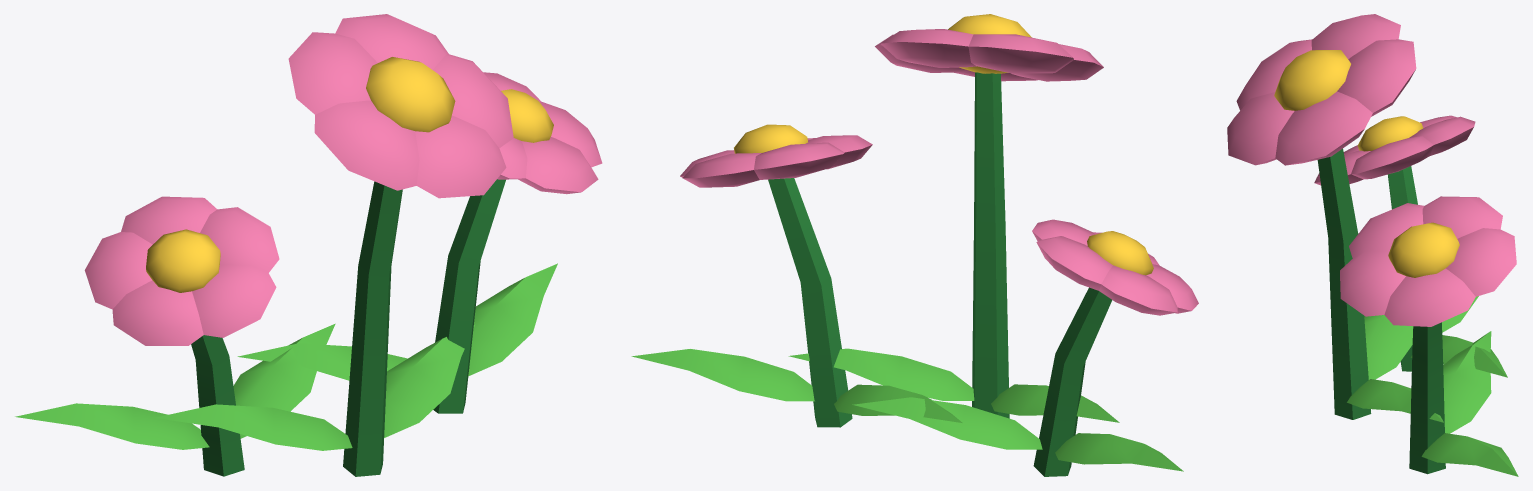
The model's file is flower_pink.glb.
The picture shows the model from 3 angles, left to right: view 1: azimuth 30°, elevation 25°; view 2: azimuth 150°, elevation 25°; view 3: azimuth 270°, elevation 25°; orthographic projection. The views are drawn at different scales.
Visible parts, largest first — view 1: flower_pink; view 2: flower_pink; view 3: flower_pink.
Boxes of the visible parts, x1,y1,x2,y2 form: flower_pink: (15,14,602,476); flower_pink: (631,14,1198,476); flower_pink: (1227,14,1518,476).
Bounding box in the file's own units: 0.5444 × 0.3921 × 0.2734.
